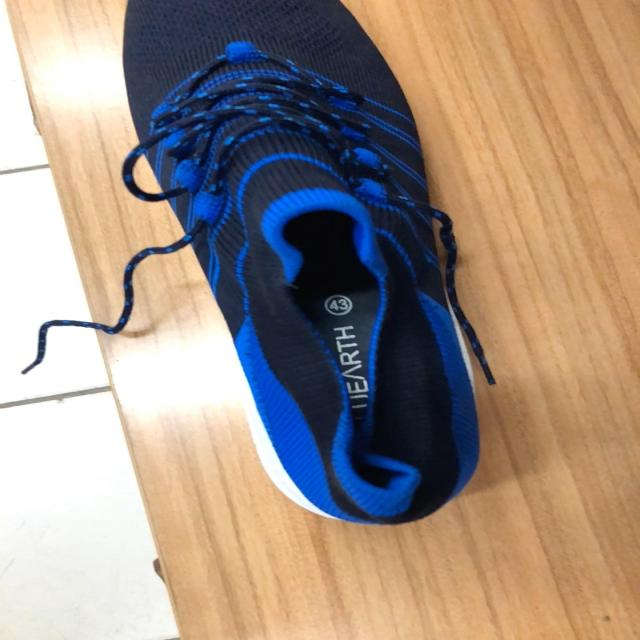shoe: (124, 0, 493, 529)
